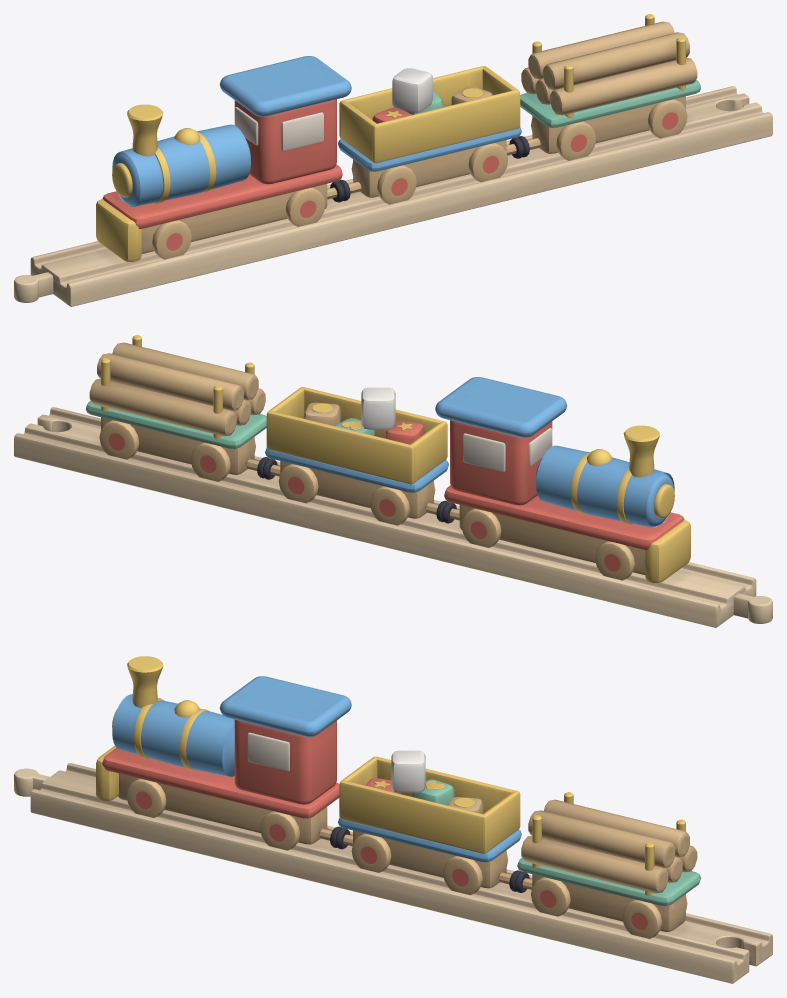
Rendered from tren_madera.glb.
The picture shows the model from 3 angles, top to bottom: view 1: azimuth 30°, elevation 25°; view 2: azimuth 150°, elevation 25°; view 3: azimuth 330°, elevation 25°; orthographic projection.
Parts seen in each view (by area): view 1: wooden-train_body; view 2: wooden-train_body; view 3: wooden-train_body.
Part boxes in pixels (x1,y1,x2,y2): wooden-train_body: (14,14,772,306); wooden-train_body: (14,335,772,627); wooden-train_body: (14,656,772,983).
Size of the model in its own units: 0.4197 by 0.0862 by 0.042.
Materials: 3 (1 with a texture image).
